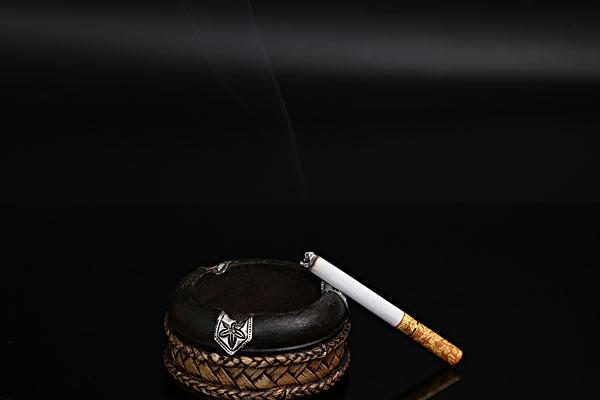smoke: (299, 247, 465, 373)
